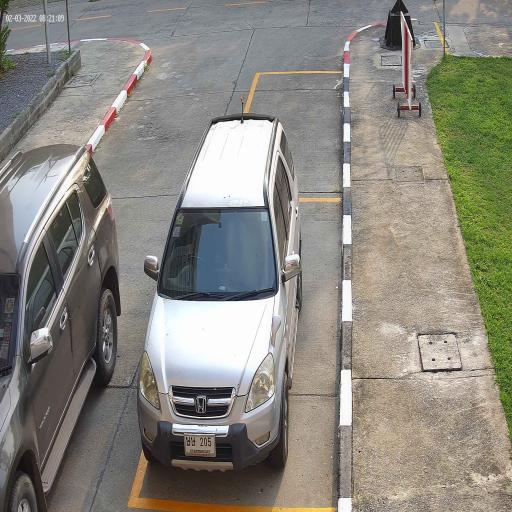car: (136, 112, 303, 476), (0, 143, 120, 512)
